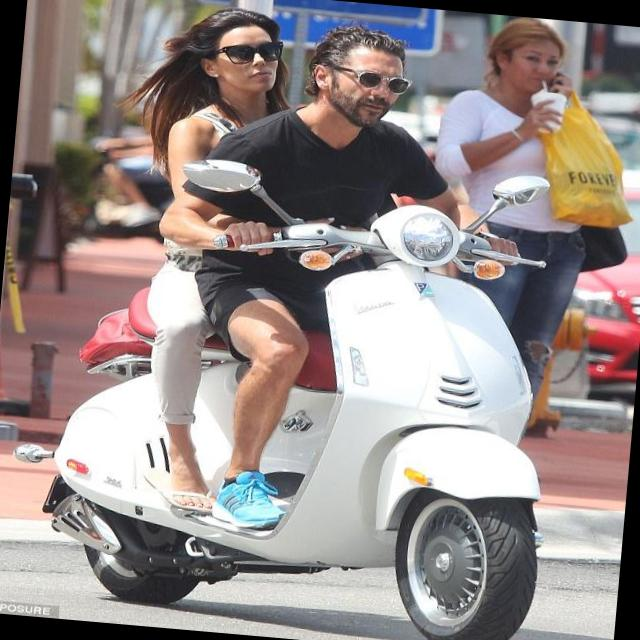No helmet: (309, 17, 415, 138)
